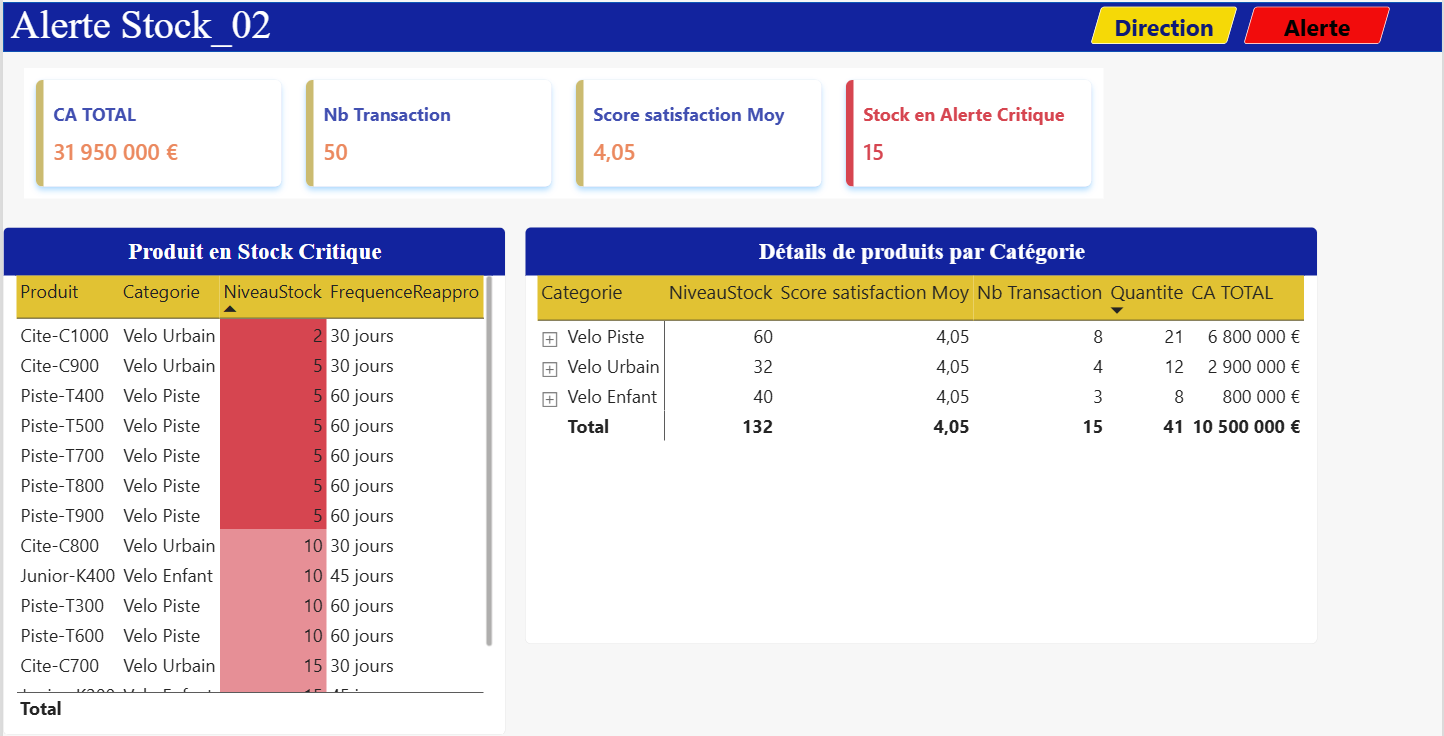

The page's visual inventory and layout, read from the dashboard file:
{"tool":"powerbi","page":{"name":"Alerte","canvas":[1920,1080],"ordinal":1},"visuals":[{"type":"cardVisual","fields":{"Data":["Ventes.CA TOTAL","Ventes.Nb Transaction","Ventes.Score satisfaction Moy","Ventes.Stock critique"]},"box":[28.6,95.4,1441.1,174.2],"z":0},{"type":"tableEx","title":" Produit en Stock Critique","fields":{"Values":["Inventaire.NomProduit","Inventaire.Categorie","Inventaire.NiveauStock","Inventaire.FrequenceReappro"]},"box":[0,308,670,678],"z":1000},{"type":"shape","box":[0,7.2,1920.7,66.8],"z":2000},{"type":"pivotTable","title":"Détails de produits par Catégorie","fields":{"Rows":["Inventaire.Categorie","Inventaire.NomProduit"],"Values":["Sum(Inventaire.NiveauStock)","Ventes.Score satisfaction Moy","Ventes.Nb Transaction","Sum(Ventes.Quantite)","Ventes.CA TOTAL"]},"box":[696.7,307.8,1057,555.9],"z":3000},{"type":"textbox","title":"Alerte Stock_02","box":[9.5,7.2,1441.1,66.8],"z":4000},{"type":"pageNavigator","box":[1450.6,14.3,400,50],"z":5000}]}

Visuals, with their boxes on the page's 1920x1080 design canvas (x1, y1, x2, y2). These are canvas units, not pixel positions in the 1444x736 screenshot, which may show the page scaled, cropped or inside an application window:
cardVisual - Ventes.CA TOTAL x Ventes.Nb Transaction: region(29, 95, 1470, 270)
" Produit en Stock Critique" tableEx: region(0, 308, 670, 986)
shape: region(0, 7, 1921, 74)
"Détails de produits par Catégorie" pivotTable: region(697, 308, 1754, 864)
"Alerte Stock_02" textbox: region(10, 7, 1451, 74)
pageNavigator: region(1451, 14, 1851, 64)
